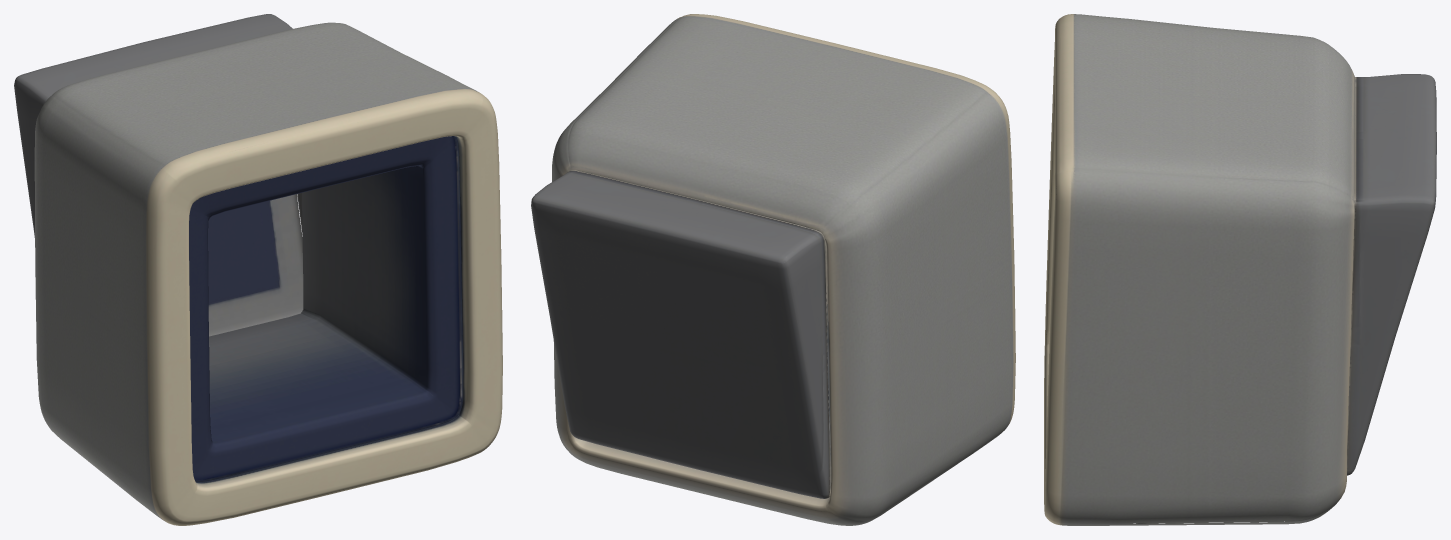
The model's file is Mod_WallFanBody.glb.
3 renders of one model, left to right at view 1: azimuth 30°, elevation 25°; view 2: azimuth 150°, elevation 25°; view 3: azimuth 270°, elevation 25°, orthographic. The views are drawn at different scales.
Parts seen in each view (by area): view 1: b6258197_5c69_43d8_be7e_72eede019017; view 2: b6258197_5c69_43d8_be7e_72eede019017; view 3: b6258197_5c69_43d8_be7e_72eede019017.
Part boxes in pixels (<box>): b6258197_5c69_43d8_be7e_72eede019017: <box>14,14,502,525</box>; b6258197_5c69_43d8_be7e_72eede019017: <box>531,14,1015,525</box>; b6258197_5c69_43d8_be7e_72eede019017: <box>1044,14,1436,525</box>.
Bounding box in the file's own units: 0.9897 × 0.9995 × 0.9438.
Materials: 1 (1 with a texture image).
